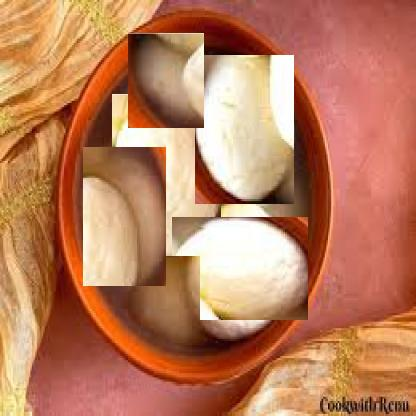rasgulla: (111, 94, 221, 259), (194, 54, 294, 204), (180, 208, 300, 328), (82, 146, 166, 286), (124, 38, 209, 124), (128, 257, 200, 342)
